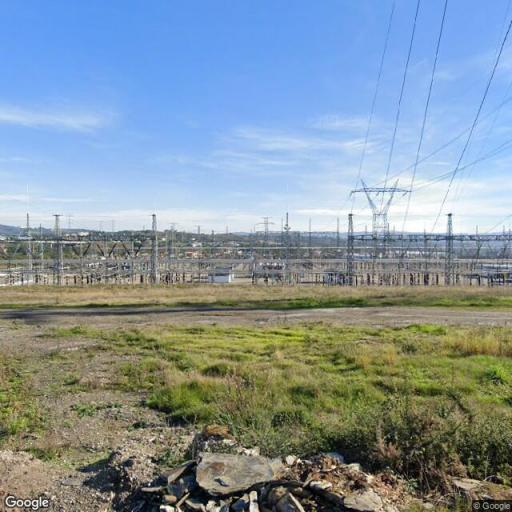ss_3: (255, 212, 278, 242)
wt_5: (348, 180, 410, 253)
